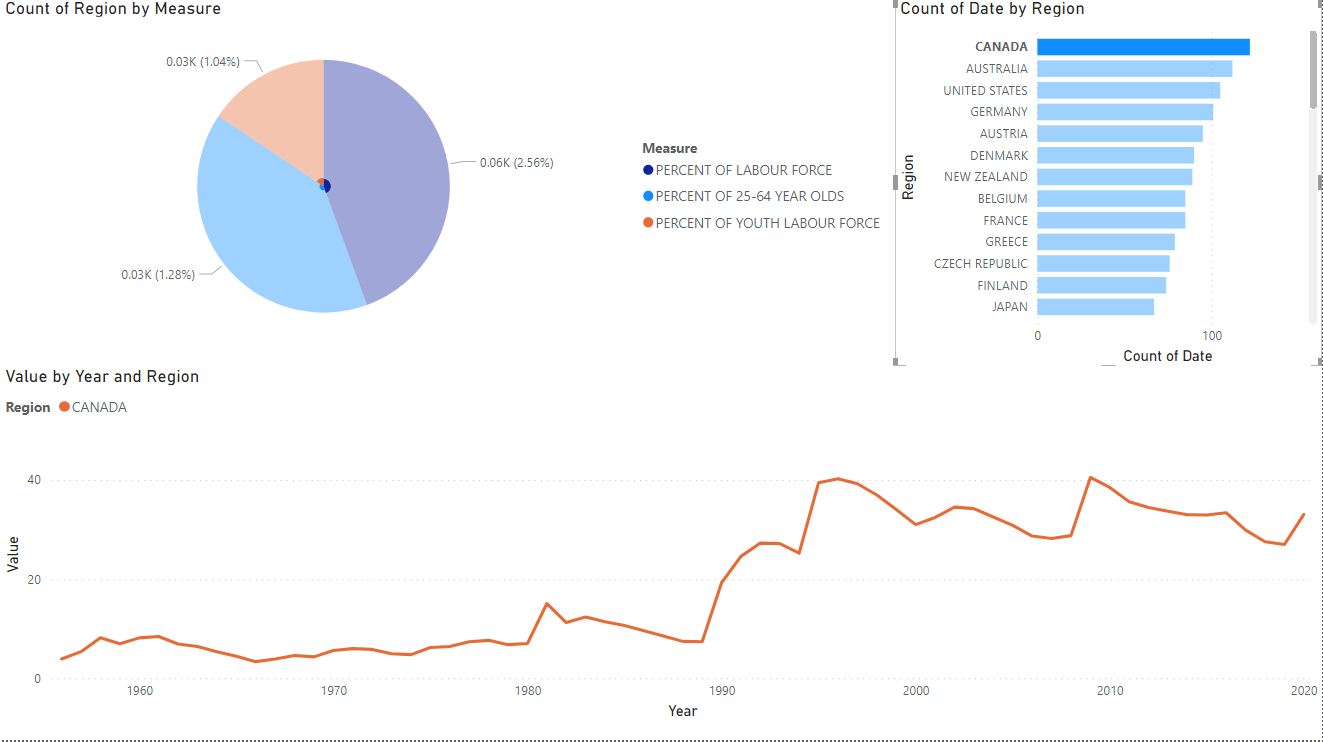

The page's visual inventory and layout, read from the dashboard file:
{"tool":"powerbi","page":{"name":"unemploy","canvas":[1280,720],"ordinal":1},"visuals":[{"type":"pieChart","fields":{"Category":["Table1.Measure"],"Y":["CountNonNull(Table1.Region)"]},"box":[0,0,866.4,347.3],"z":0},{"type":"barChart","fields":{"Y":["CountNonNull(Table1.Date)"],"Category":["Table1.Region"]},"box":[866.4,0,413.8,360.6],"z":1000},{"type":"lineChart","fields":{"Category":["Table1.Date.Variation.Date Hierarchy.Year"],"Y":["Sum(Table1.Value)"],"Series":["Table1.Region"]},"box":[0,357,1280.3,347.3],"z":2000}]}

Visuals, with their boxes in screenshot pixels (x1, y1, x2, y2), scaled from the page's 1280x720 canvas onto the 1323x742 screenshot:
pieChart - Table1.Measure x CountNonNull(Table1.Region): (left=0, top=0, right=896, bottom=358)
barChart - CountNonNull(Table1.Date) x Table1.Region: (left=896, top=0, right=1322, bottom=372)
lineChart - Table1.Date.Variation.Date Hierarchy.Year x Sum(Table1.Value): (left=0, top=368, right=1322, bottom=726)
